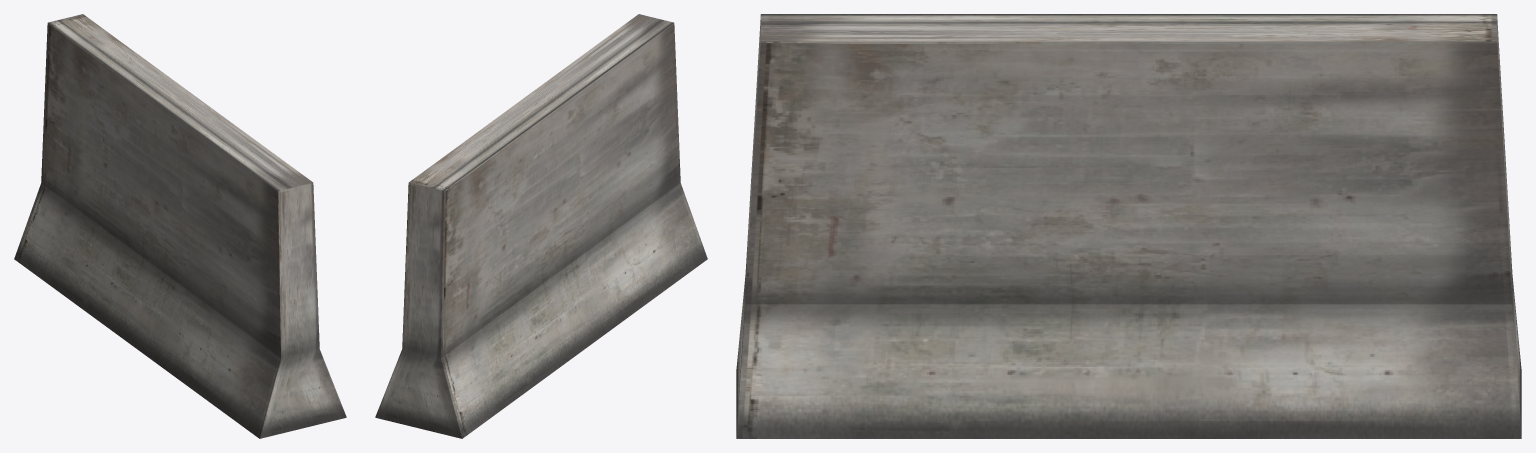
File: PFB-Street-Decor-Pack-02-Road-Block-Concrete-Street.fbx
The picture shows the model from 3 angles, left to right: view 1: azimuth 30°, elevation 25°; view 2: azimuth 150°, elevation 25°; view 3: azimuth 270°, elevation 25°; orthographic projection. The views are drawn at different scales.
Parts seen in each view (by area): view 1: Road-Block-Concrete-Street; view 2: Road-Block-Concrete-Street; view 3: Road-Block-Concrete-Street.
Boxes of the visible parts, x1,y1,x2,y2 form: Road-Block-Concrete-Street: (14,14,346,438); Road-Block-Concrete-Street: (375,14,707,438); Road-Block-Concrete-Street: (736,14,1521,438).
Size of the model in its own units: 4.49 by 11.61 by 21.91.
